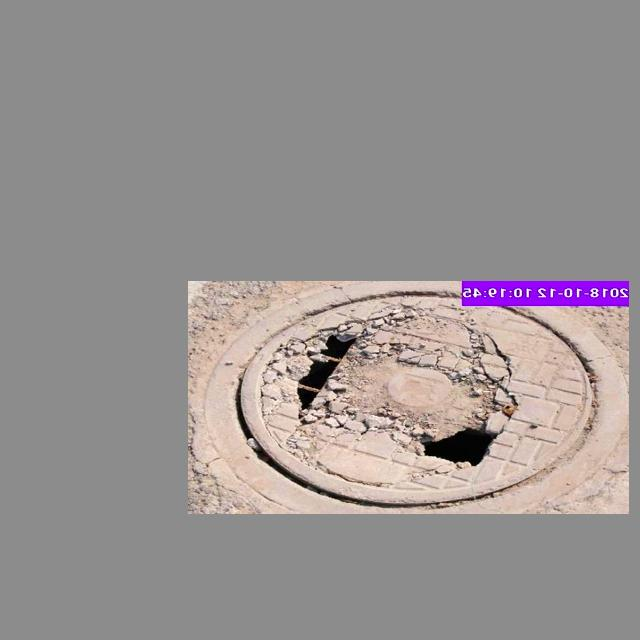broke: (221, 296, 607, 501)
